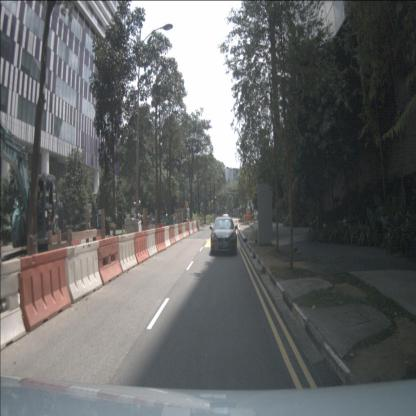movable_object-barrier: (18, 248, 72, 331), (0, 258, 27, 353), (64, 240, 102, 304), (97, 236, 123, 286), (118, 232, 139, 274), (134, 230, 150, 265), (145, 228, 158, 258), (155, 227, 166, 253), (162, 226, 171, 248), (168, 224, 177, 245), (174, 224, 181, 243), (178, 224, 184, 241), (188, 221, 193, 235), (185, 222, 190, 236), (193, 220, 198, 233), (182, 223, 186, 238), (191, 222, 195, 233), (245, 215, 252, 221), (198, 220, 201, 230), (196, 221, 199, 231)
vehicle-car: (211, 216, 237, 256), (222, 214, 229, 223)
vehicle-truck: (174, 200, 191, 223)
